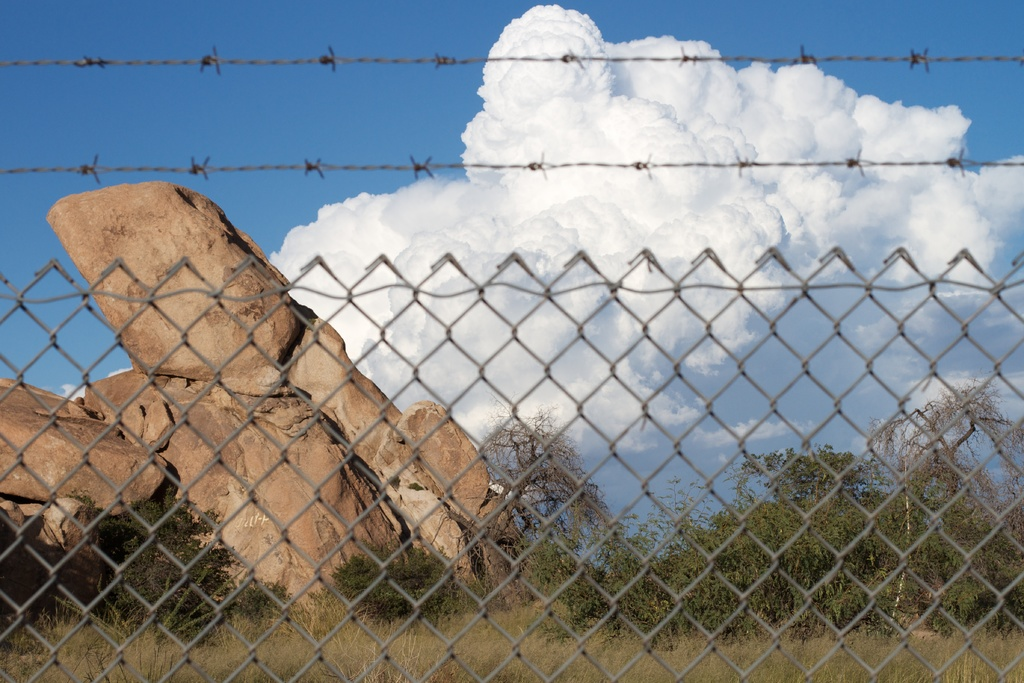Tree: (478, 401, 611, 574), (726, 427, 887, 550)
